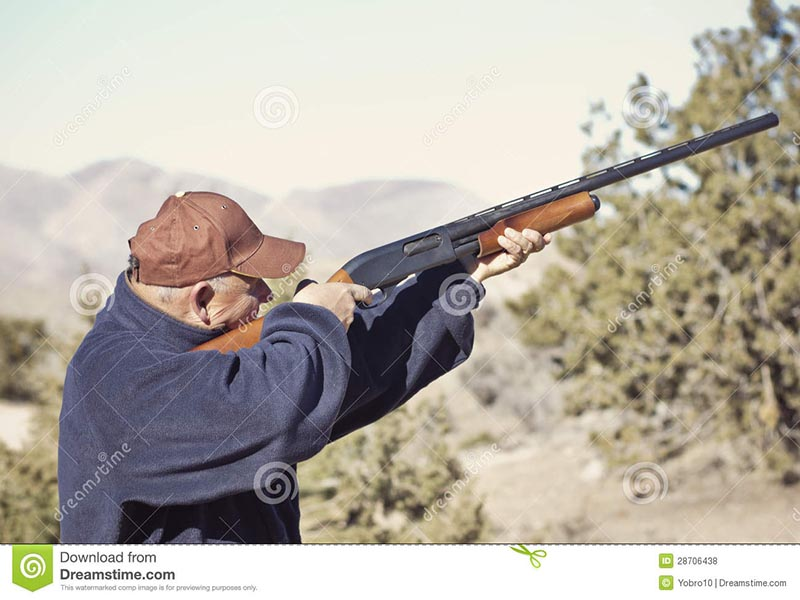cacciatore: (47, 180, 611, 537)
fucile: (206, 113, 778, 361)
